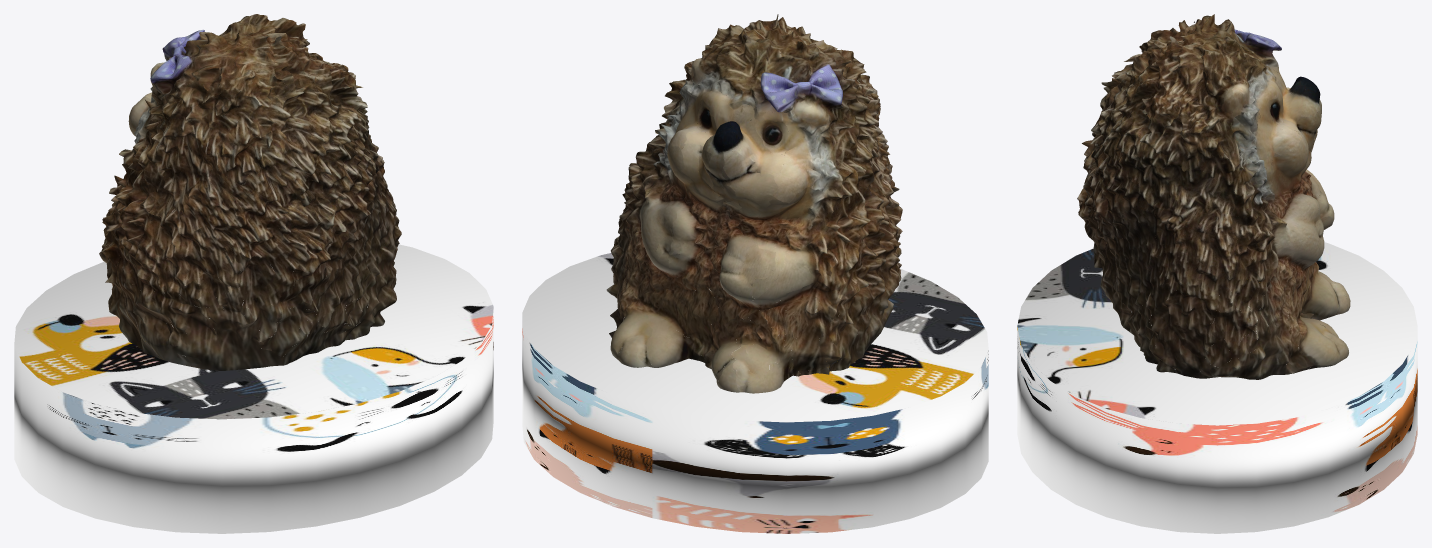
Rendered from asset.glb.
The picture shows the model from 3 angles, left to right: view 1: azimuth 30°, elevation 25°; view 2: azimuth 150°, elevation 25°; view 3: azimuth 270°, elevation 25°; orthographic projection. The views are drawn at different scales.
Visible parts, largest first — view 1: Cylinder, Mesh_0.006; view 2: Mesh_0.006, Cylinder; view 3: Cylinder, Mesh_0.006.
Boxes of the visible parts, box(x1,y1,x2,y2) form: Cylinder: box(14, 244, 493, 533); Mesh_0.006: box(99, 14, 401, 370); Mesh_0.006: box(606, 14, 902, 393); Cylinder: box(522, 253, 988, 533); Cylinder: box(1017, 242, 1417, 533); Mesh_0.006: box(1077, 14, 1350, 379).
Bounding box in the file's own units: 1.44 × 1.35 × 1.22.
Materials: 2 (2 with a texture image).
